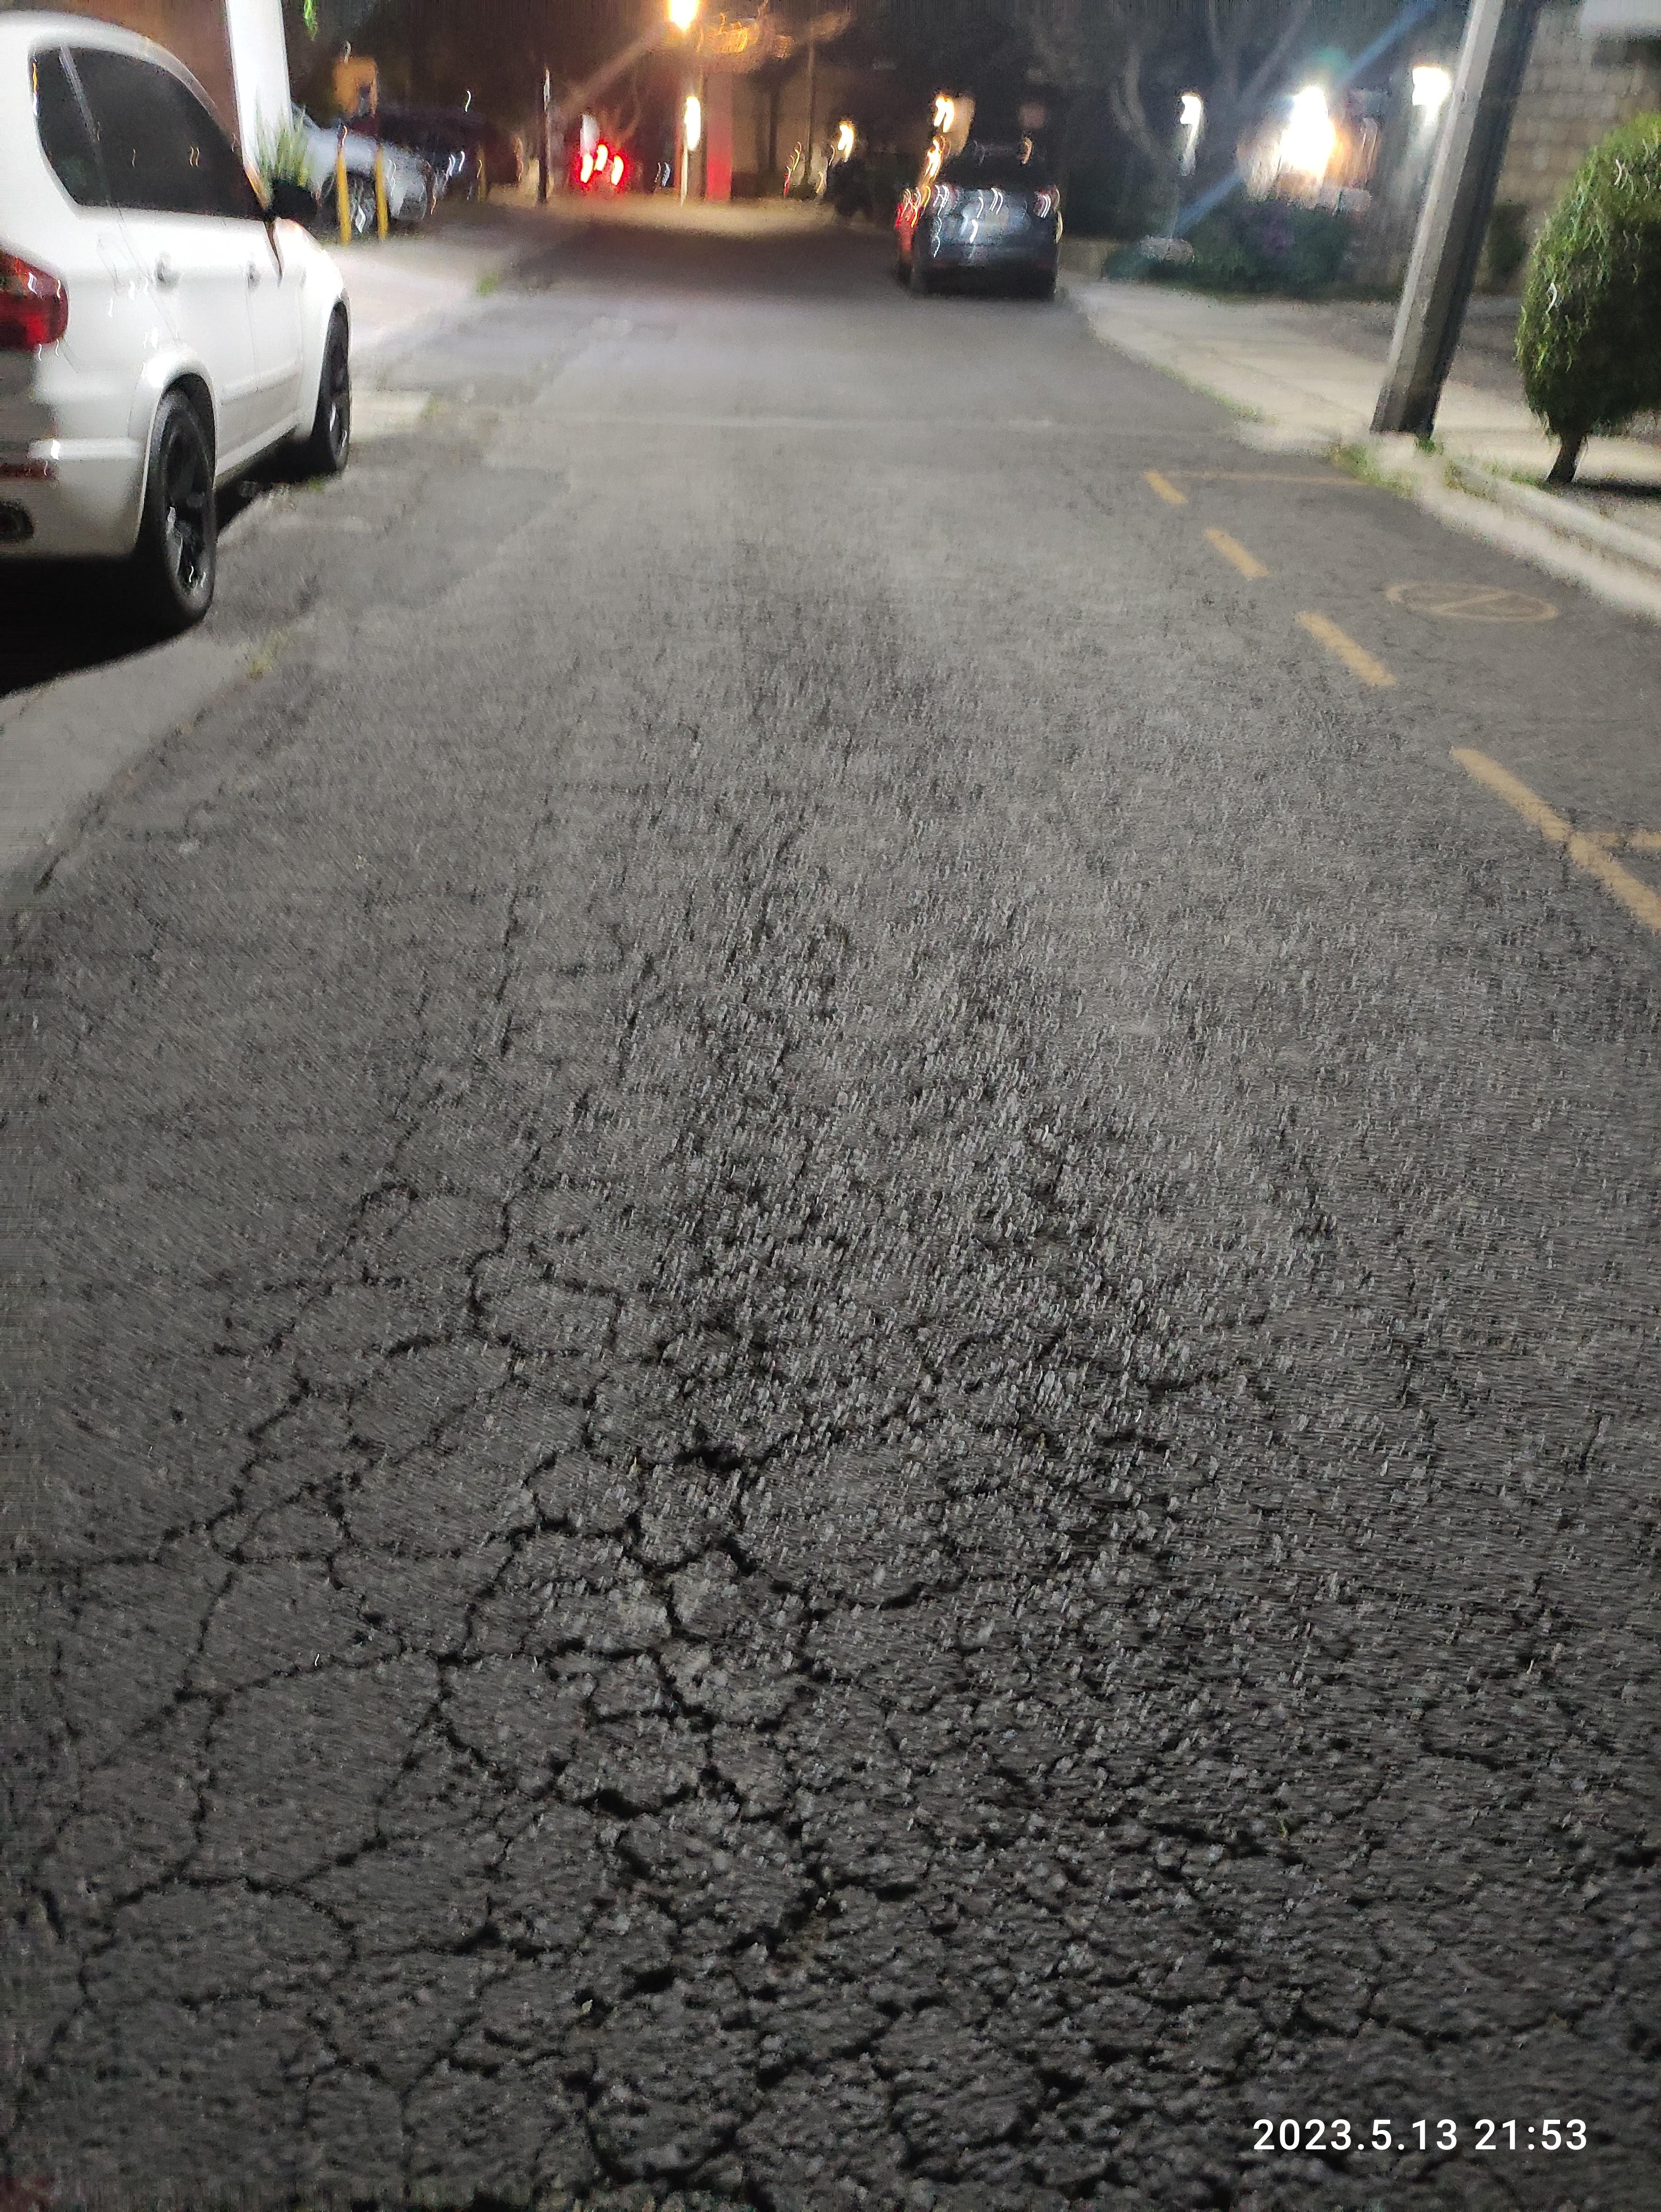alligator-crack: (16, 1197, 740, 2212), (762, 1326, 1267, 2212)
crack: (506, 776, 996, 1403), (1350, 1579, 1661, 2079)
